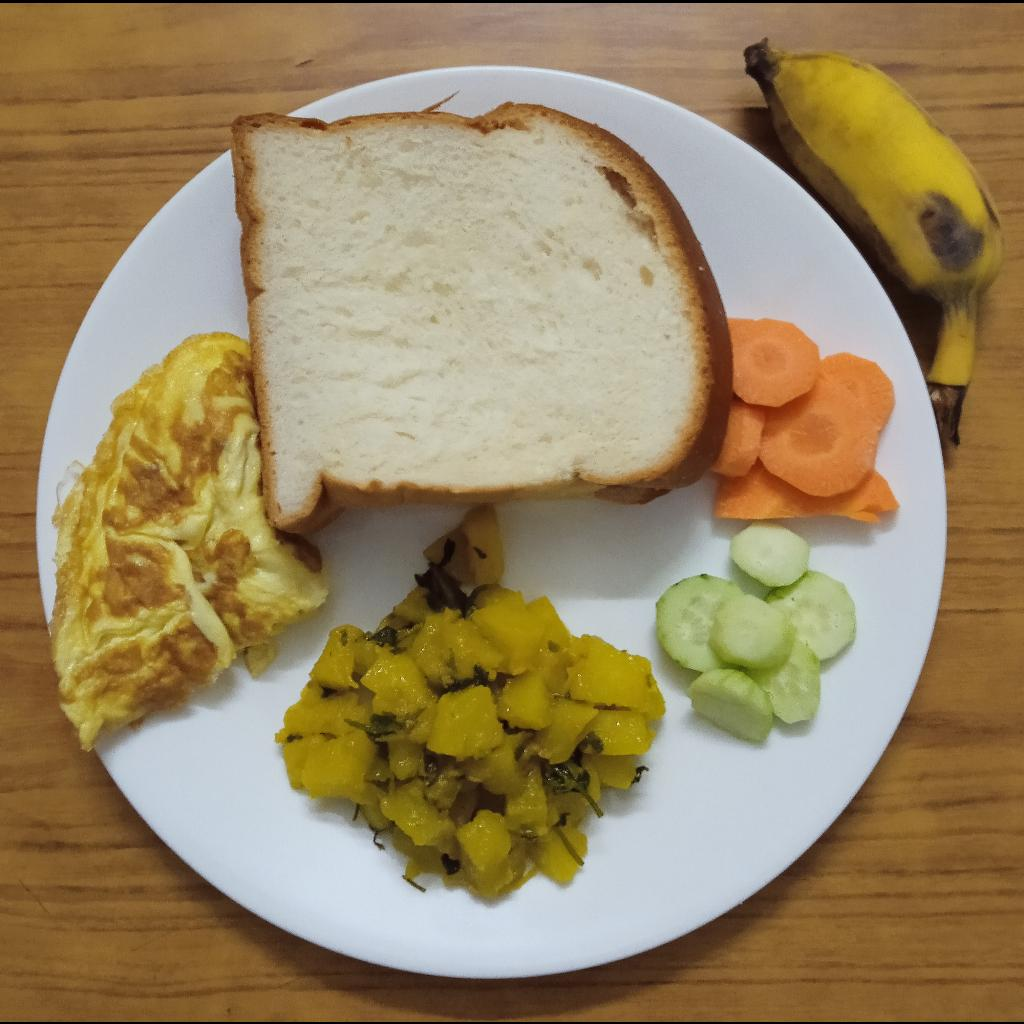banana: (742, 39, 1004, 448)
bread: (229, 100, 734, 537)
carrot: (709, 315, 901, 523)
cucumber: (658, 519, 855, 743)
egg-poached: (51, 331, 330, 751)
vegetable: (272, 503, 668, 900)
